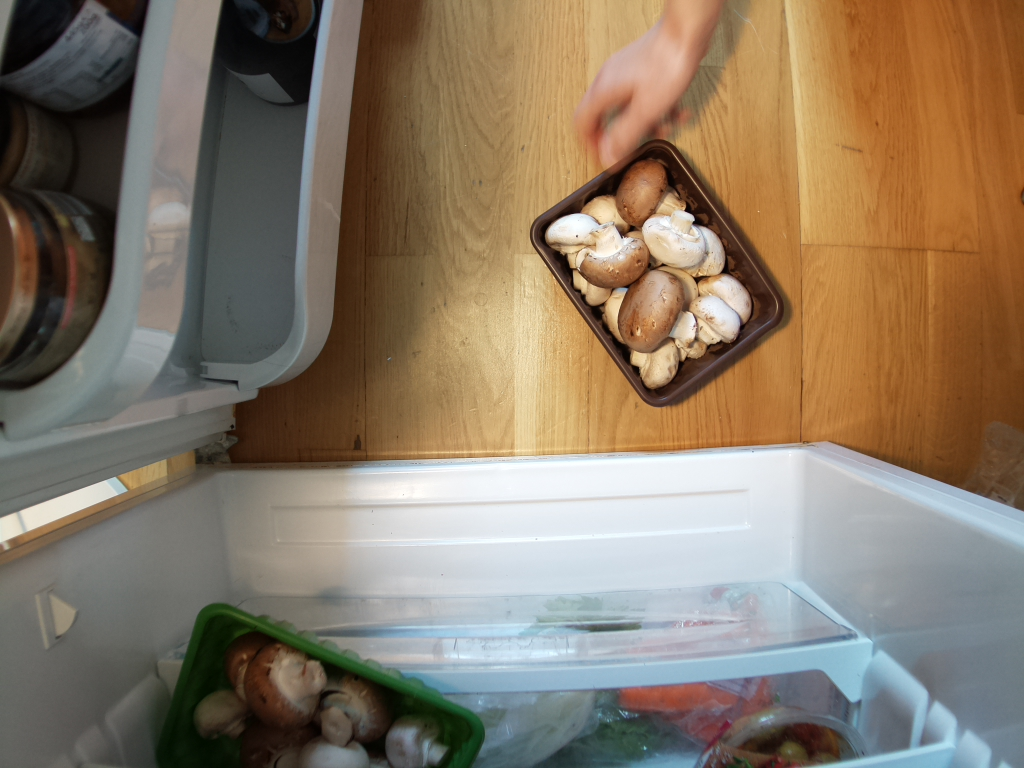mushrooms: (529, 142, 792, 414), (145, 602, 476, 768)
